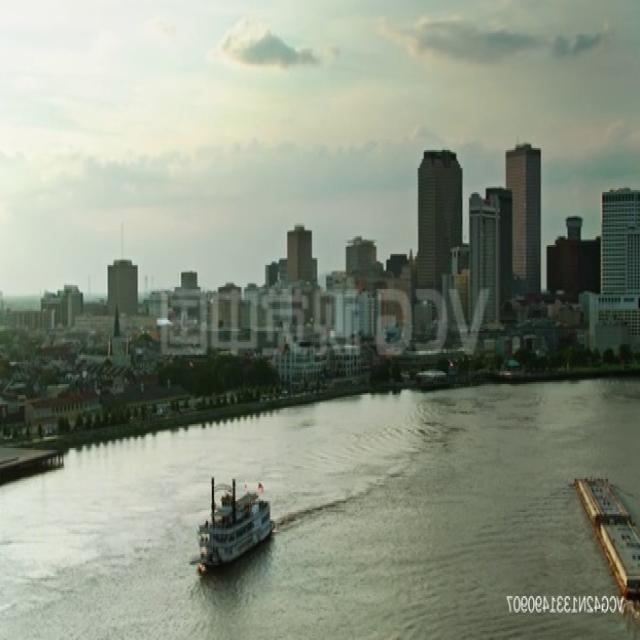cargoship: (574, 473, 640, 640)
passenger ship: (195, 476, 275, 568)
